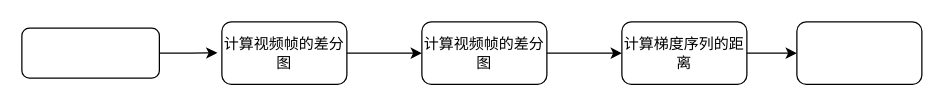
Image size: 944x106. Some labels were removed from this diagram. Each missing label, with the centre of its shape:
"MTVS" belongs at point (859, 52).
"输入待测量视频 与基准视频" belongs at point (90, 52).
